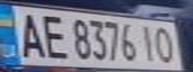3: (87, 17, 109, 61)
6: (121, 20, 139, 62)
7: (103, 18, 124, 61)
8: (66, 15, 93, 61)
A: (12, 9, 48, 60)
E: (36, 11, 72, 60)
I: (136, 22, 160, 63)
O: (151, 24, 178, 64)
